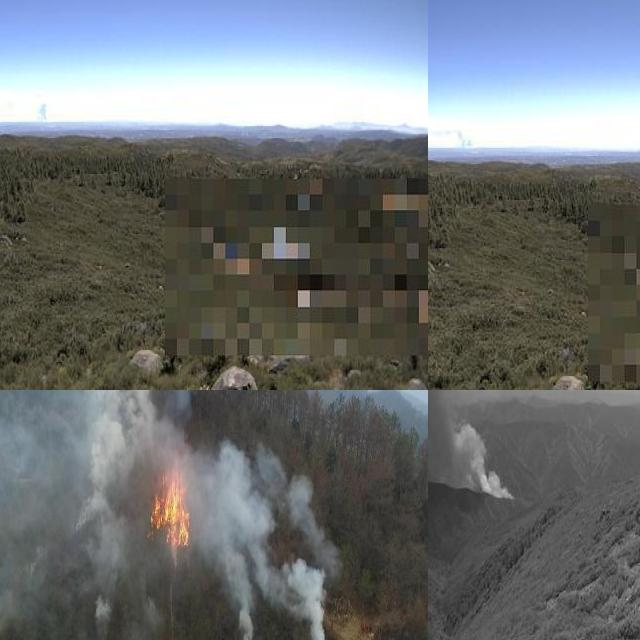fire: (125, 417, 208, 563)
smoke: (0, 390, 334, 640), (428, 390, 525, 501), (430, 124, 478, 149), (32, 99, 53, 126)
